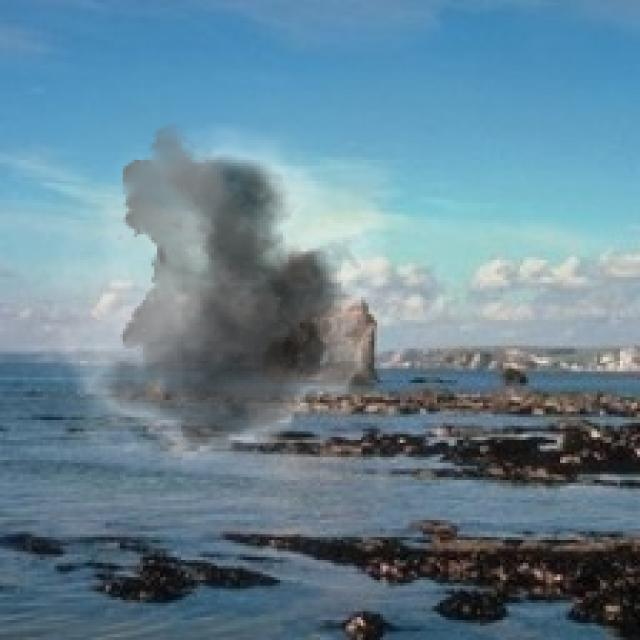smoke: (17, 123, 409, 483)
